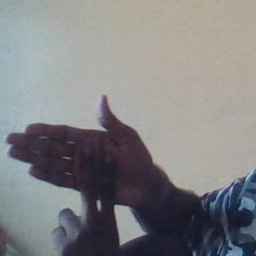N: (10, 93, 138, 238)
